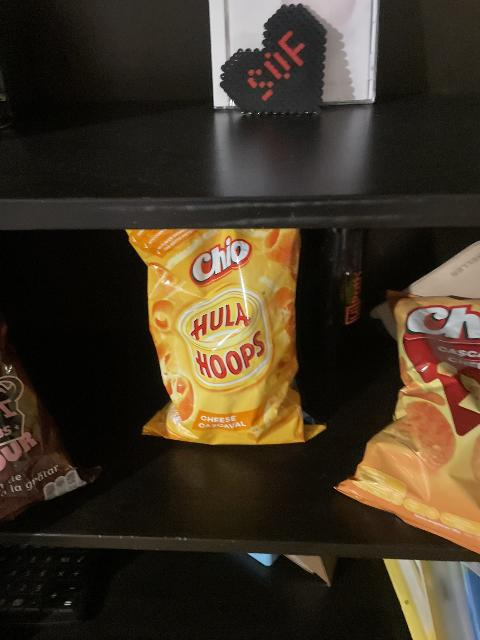Chio Cascaval 125g: (336, 291, 476, 565)
Chio Hula Hoops Cheese 70g: (125, 231, 320, 444)
Lays Beef Grilled Ribs 125g: (2, 311, 104, 522)
